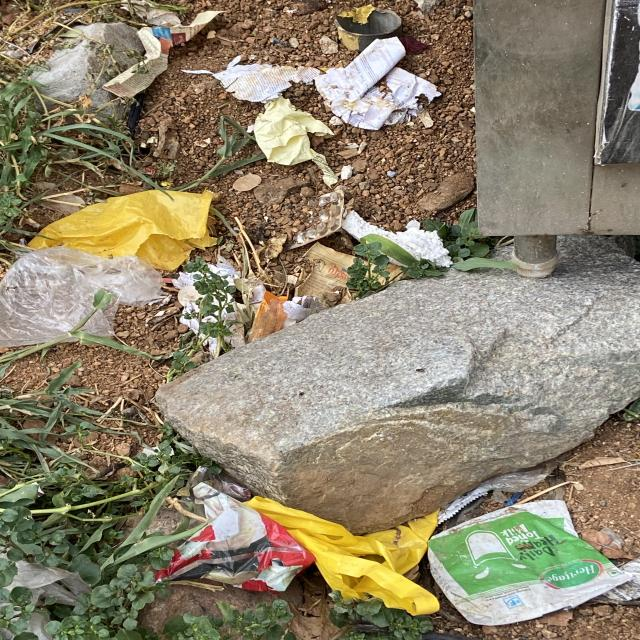nhua: (428, 501, 633, 626), (244, 497, 439, 617)
